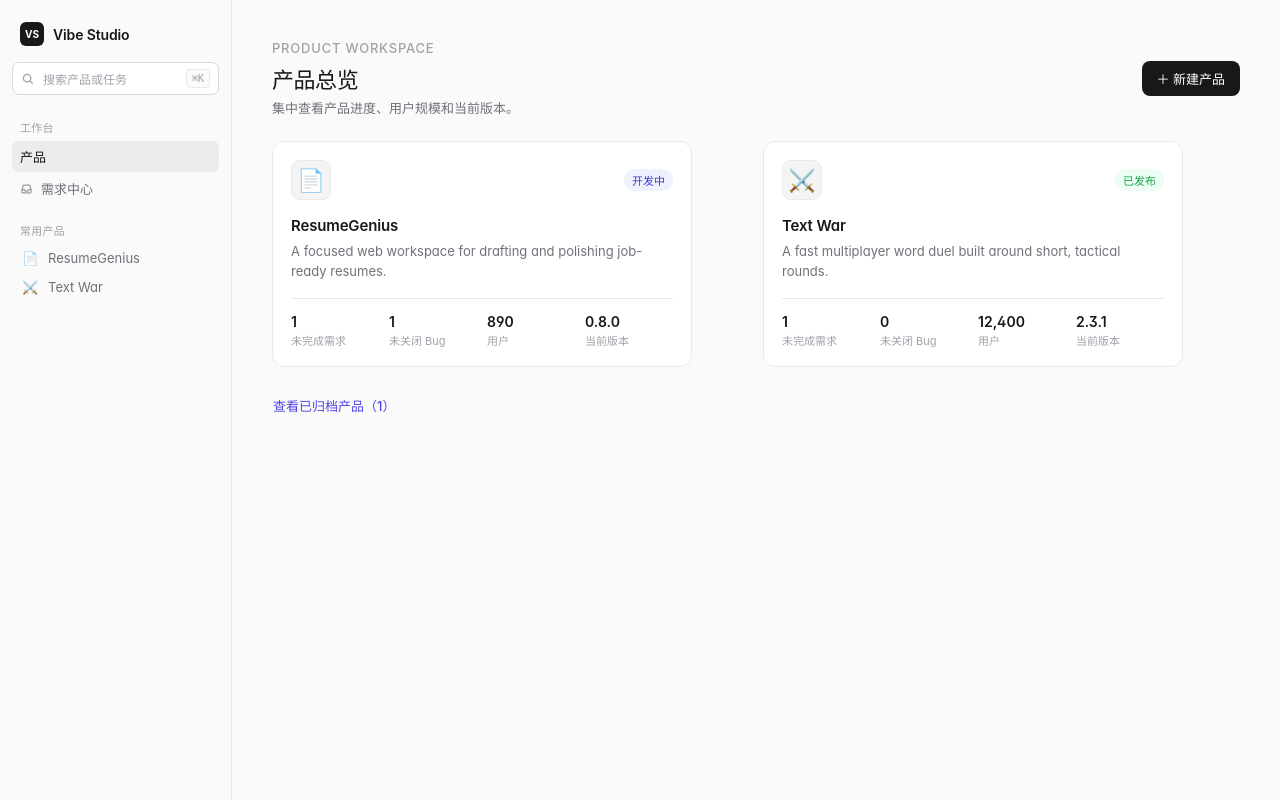
Test case: product workspace › restores an archived product from the overview
What coordinates should you click on to do the following:
click the button "查看已归档产品（1）"
I would click on:
 (334, 406)
Its box is top-left (272, 395), bottom-right (396, 416).
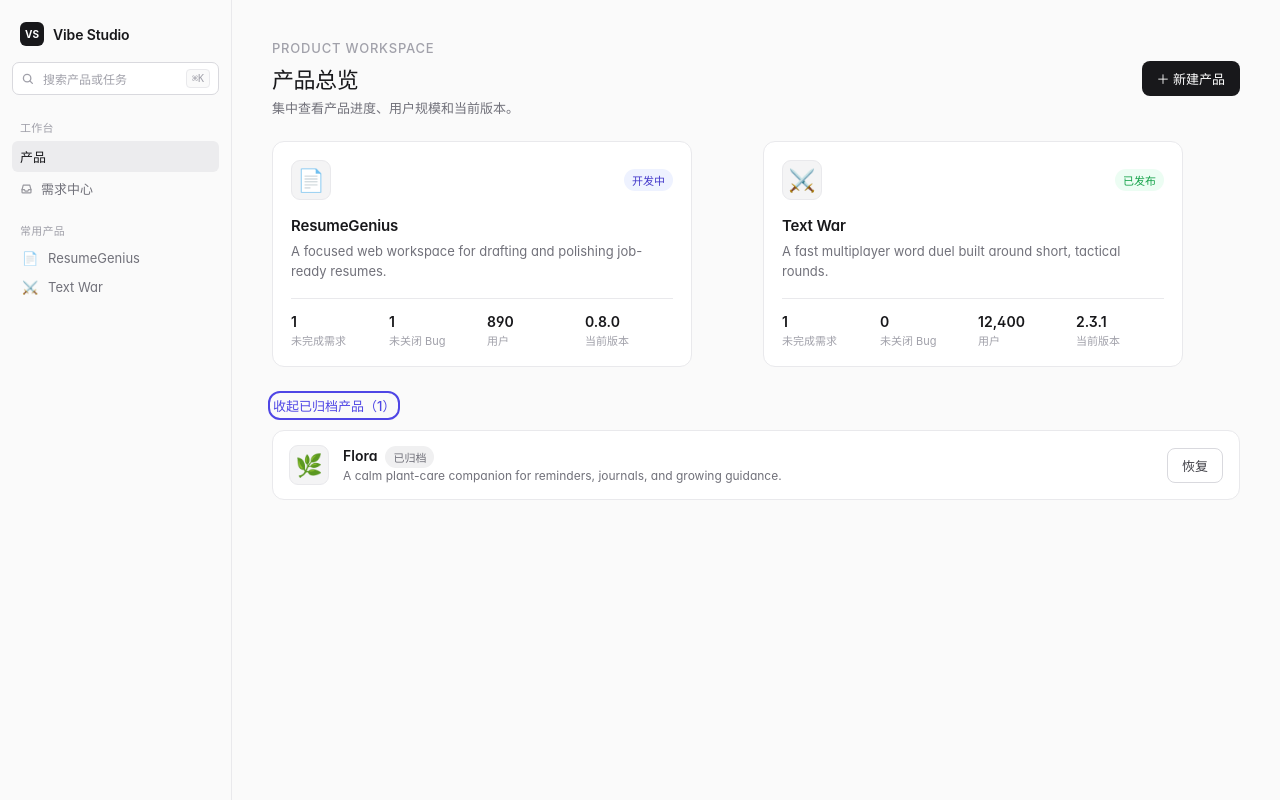
What coordinates should you click on to do the following:
click the button with aria-label "恢复 Flora"
I would click on:
 (1195, 465)
Its box is top-left (1167, 448), bottom-right (1223, 482).
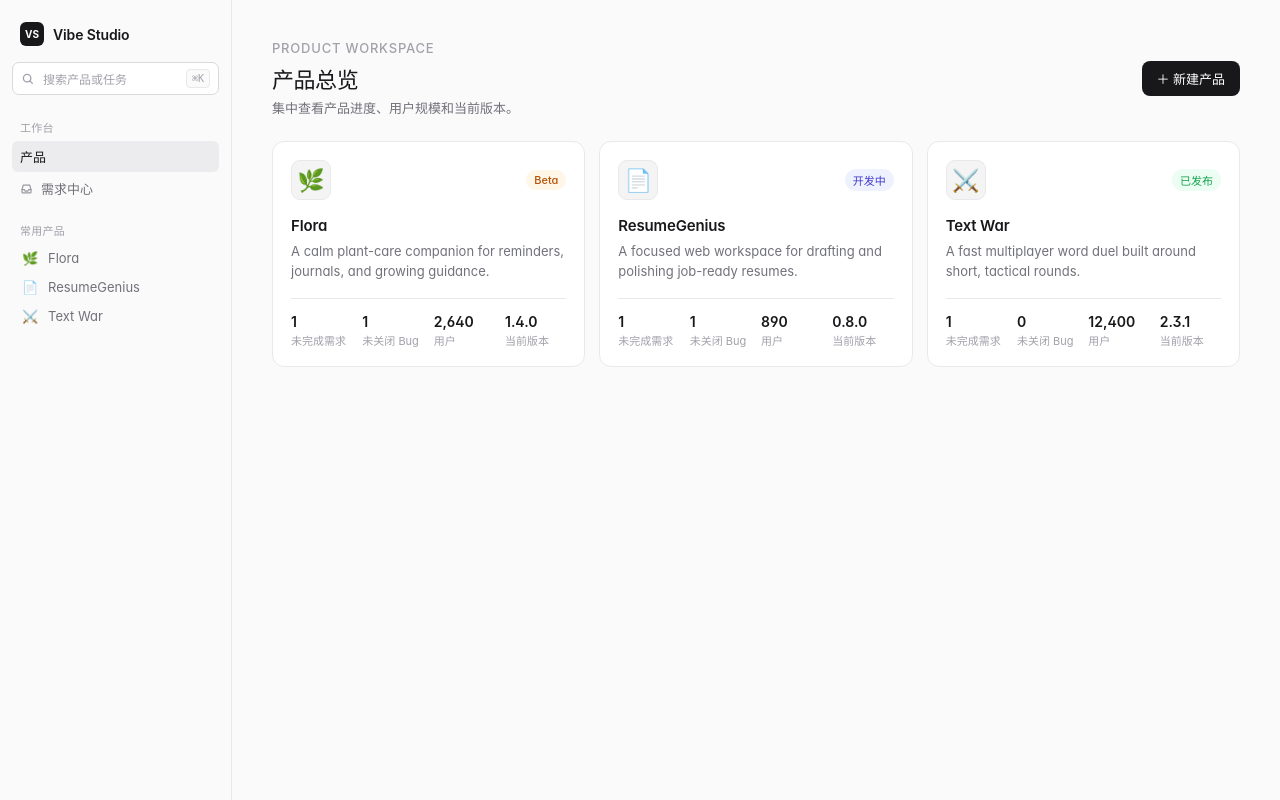
Expected: the link "Flora" is shown, top-left (272, 141), bottom-right (585, 367)
